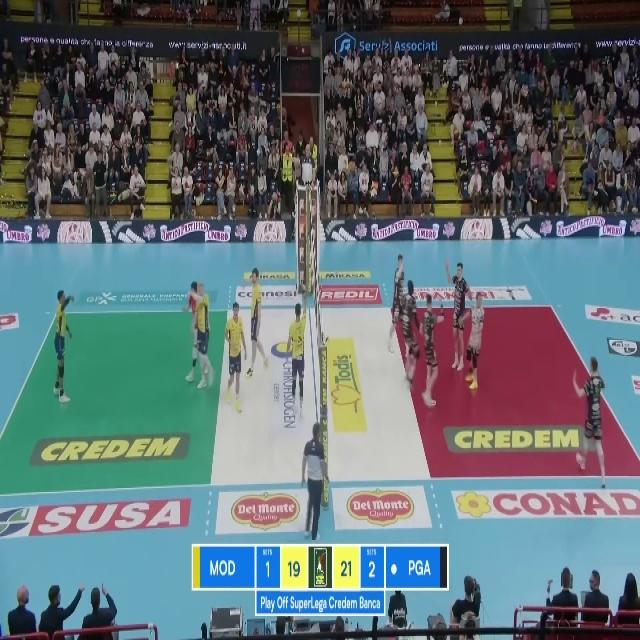volleyball court: (0, 302, 636, 494)
